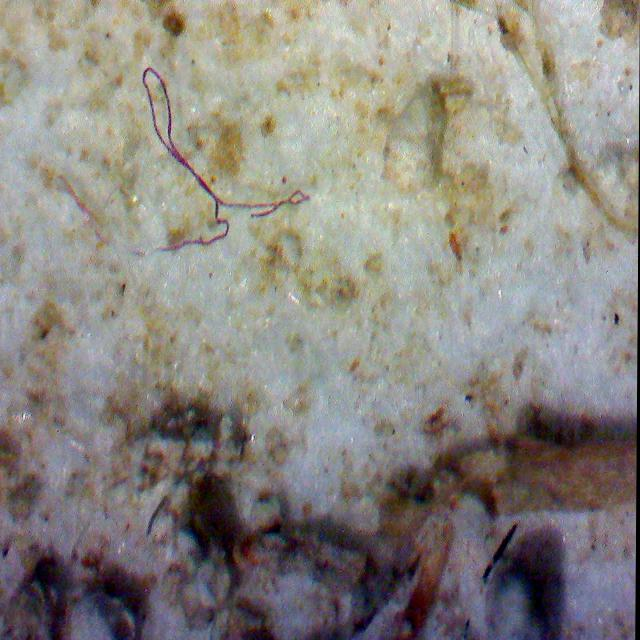microplastic: (42, 66, 312, 330)
